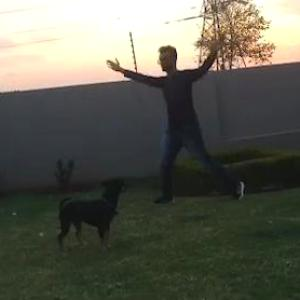takeoff: (105, 34, 233, 198)
